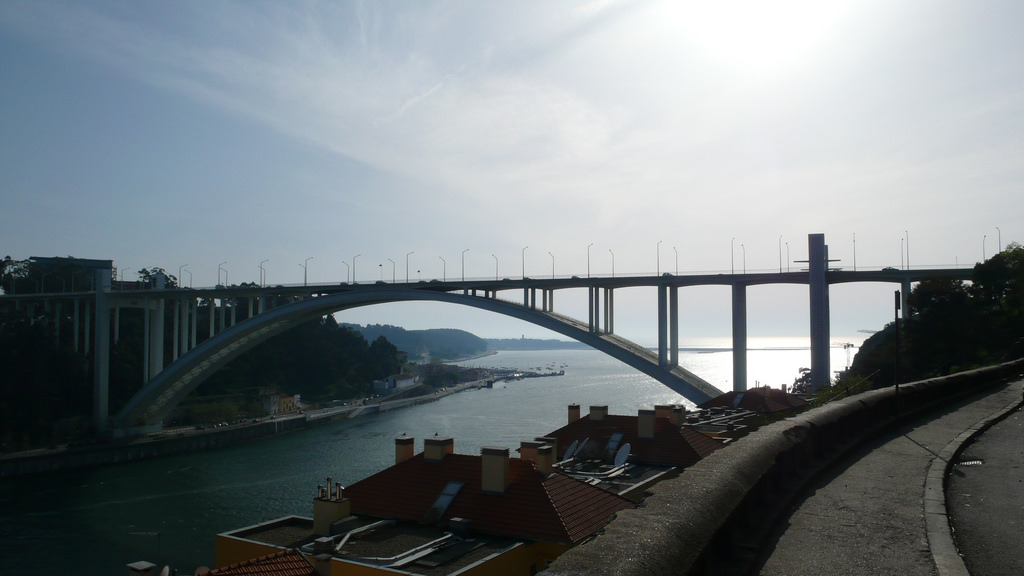arrabida: (0, 233, 1023, 444)
